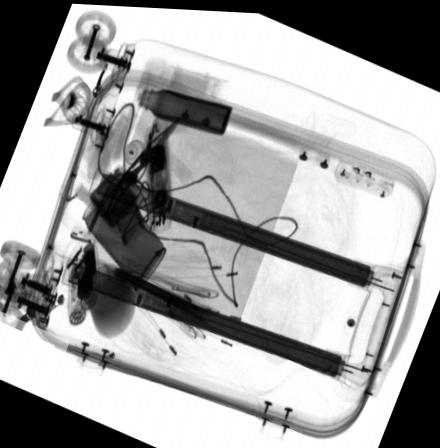Knife: (100, 113, 178, 215)
